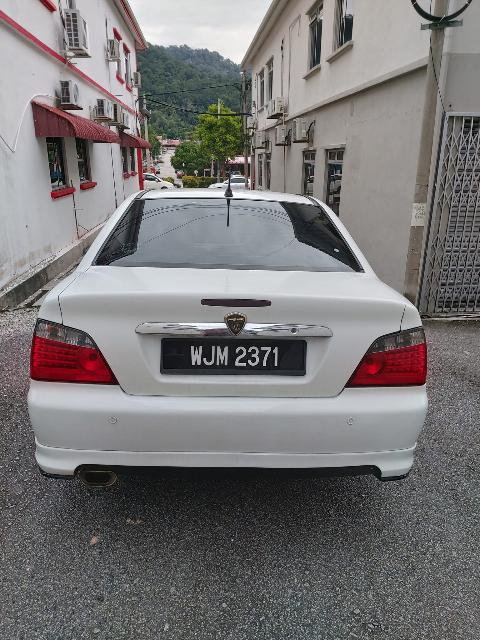License_Plate: (177, 333, 295, 385)
car: (25, 186, 435, 493)
